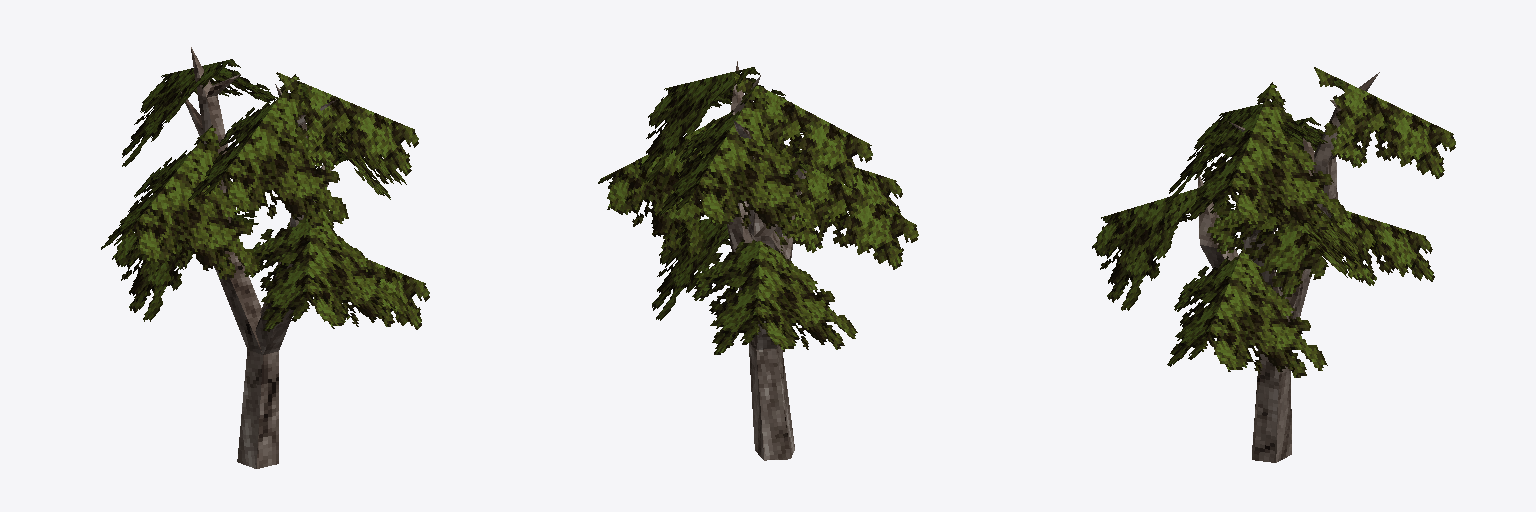
The picture shows the model from 3 angles: view 1: azimuth 30°, elevation 25°; view 2: azimuth 150°, elevation 25°; view 3: azimuth 270°, elevation 25°; orthographic projection.
Parts seen in each view (by area): view 1: poplar_1; view 2: poplar_1; view 3: poplar_1.
Boxes of the visible parts, x1=… form: poplar_1: x1=101, y1=47, x2=429, y2=468; poplar_1: x1=598, y1=61, x2=918, y2=460; poplar_1: x1=1092, y1=67, x2=1455, y2=462.
Size of the model in its own units: 4.32 by 4.95 by 4.62.
2 materials, 2 textured.